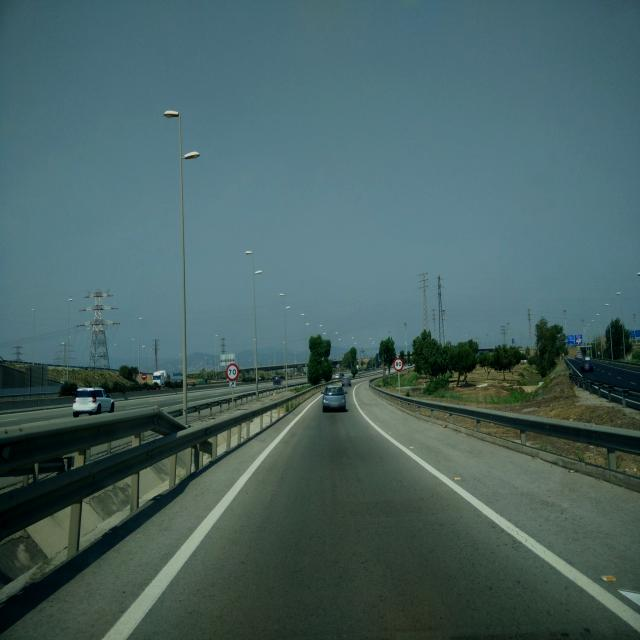car: (72, 387, 115, 417), (321, 385, 347, 413), (581, 359, 595, 373), (342, 375, 353, 388), (272, 376, 282, 386)
